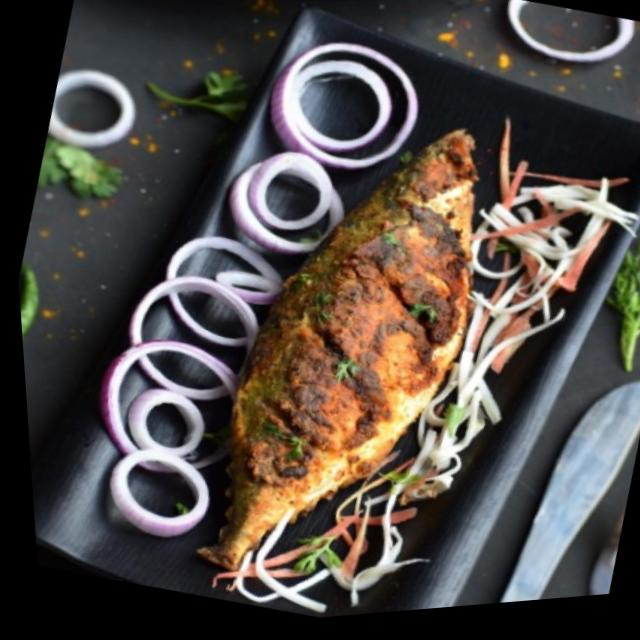FISH FRY: (200, 129, 477, 568)
